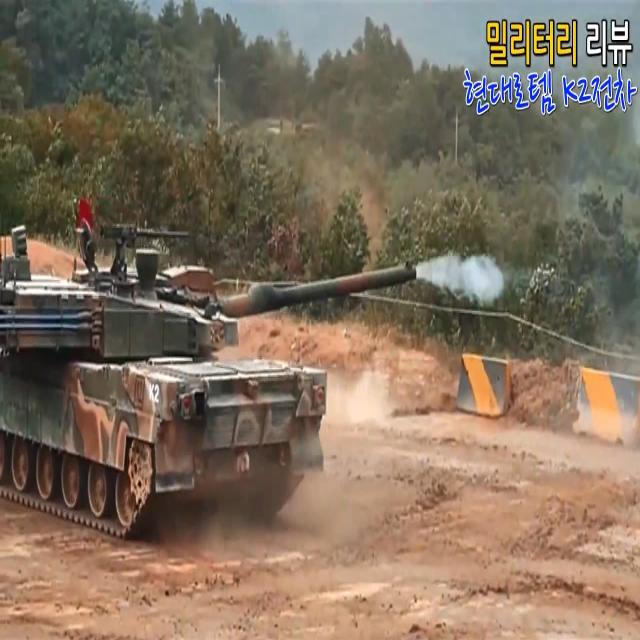korea tank: (1, 220, 418, 535)
